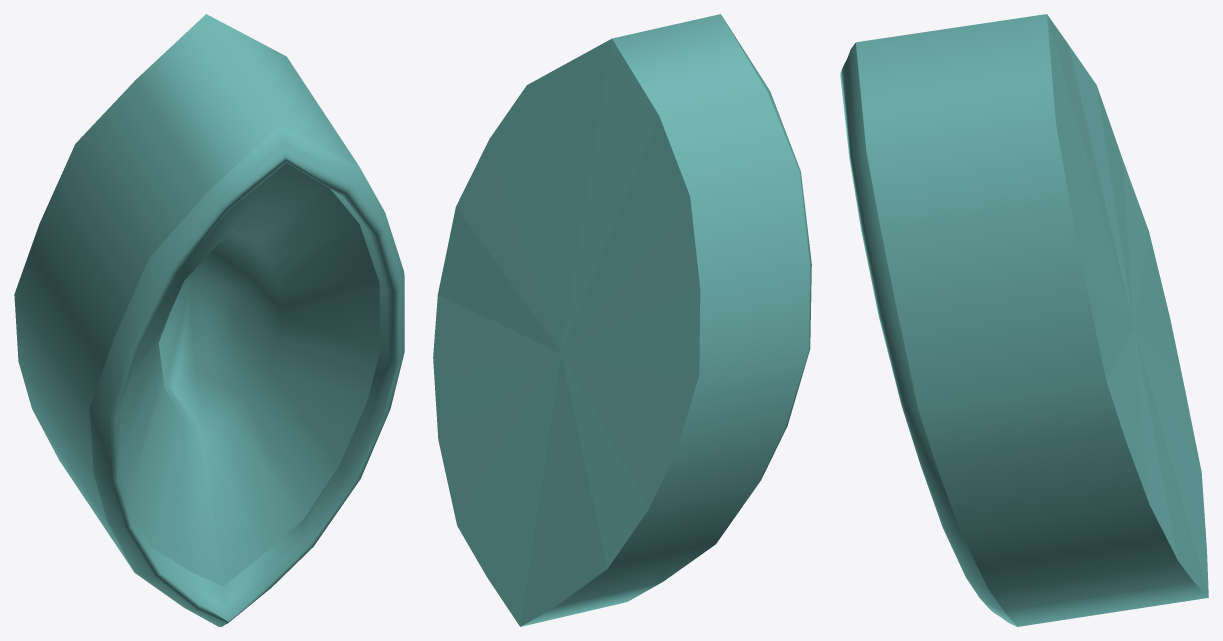
File: BL1_8shapes_Marquise_Classic_Metal.001 2.glb
The picture shows the model from 3 angles, left to right: view 1: azimuth 30°, elevation 25°; view 2: azimuth 150°, elevation 25°; view 3: azimuth 270°, elevation 25°; orthographic projection. The views are drawn at different scales.
Parts seen in each view (by area): view 1: BL1_8shapes_Marquise_Classic_Metal.001; view 2: BL1_8shapes_Marquise_Classic_Metal.001; view 3: BL1_8shapes_Marquise_Classic_Metal.001.
Part boxes in pixels (x1=…): BL1_8shapes_Marquise_Classic_Metal.001: x1=14, y1=14, x2=404, y2=626; BL1_8shapes_Marquise_Classic_Metal.001: x1=433, y1=14, x2=811, y2=626; BL1_8shapes_Marquise_Classic_Metal.001: x1=840, y1=14, x2=1208, y2=626.
Bounding box in the file's own units: 0.3877 × 0.7066 × 0.3846.
